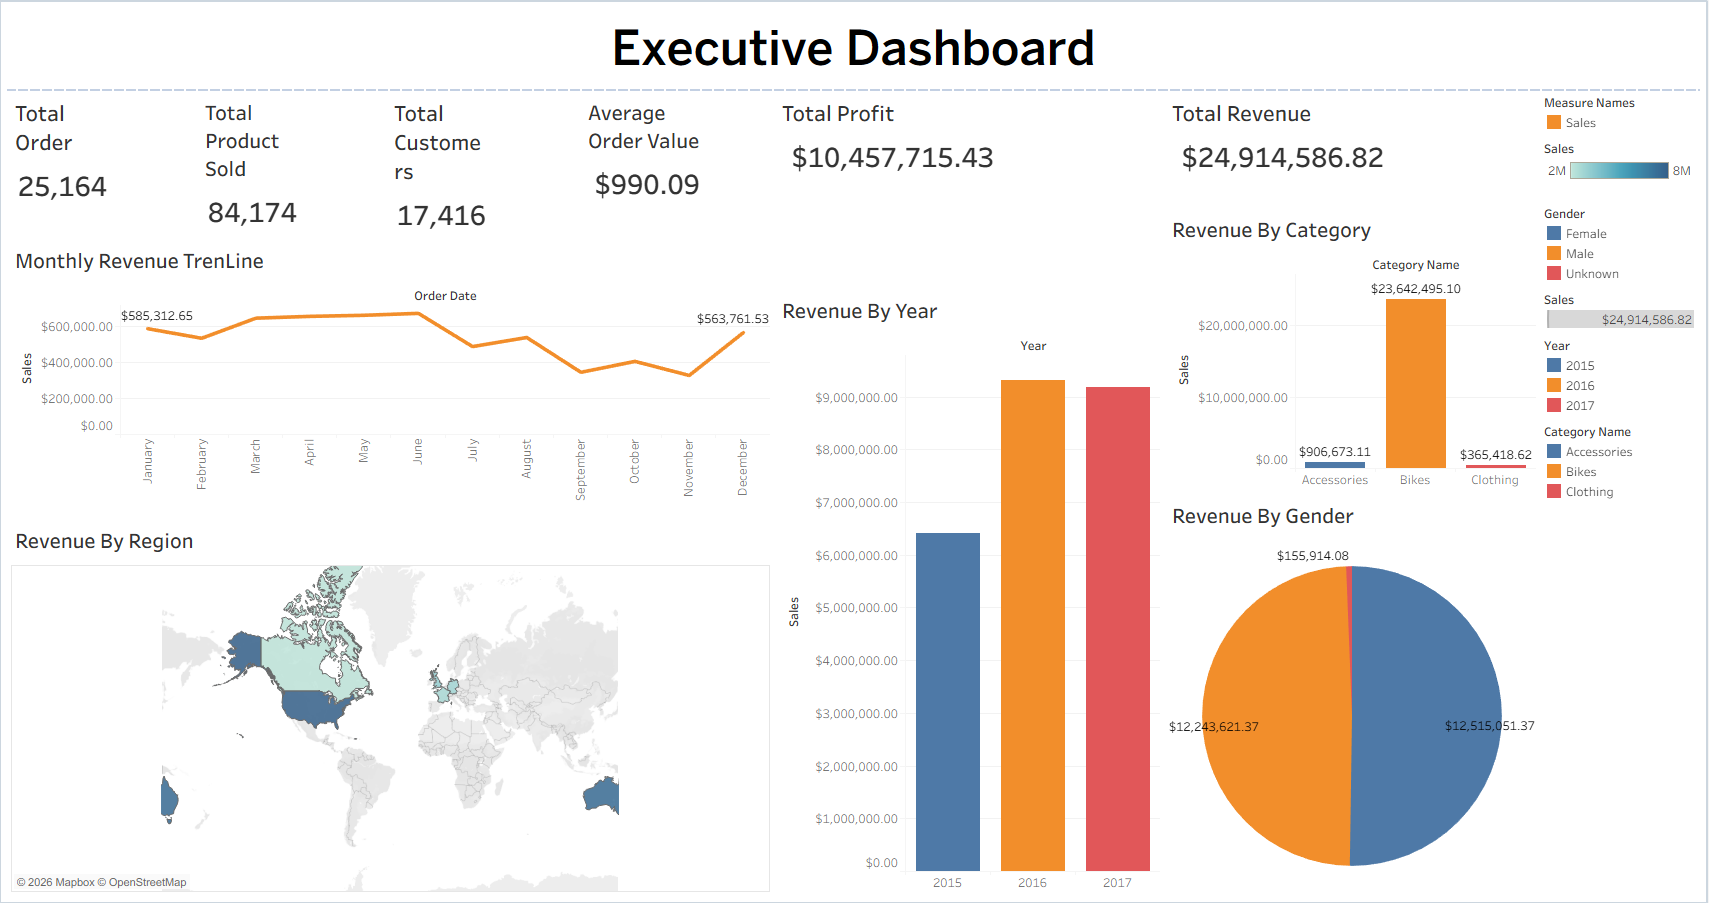

The page's visual inventory and layout, read from the dashboard file:
{"tool":"tableau","page":{"name":"Dashboard 1","canvas":[1000,1000],"units":"permille","ordinal":0},"visuals":[{"type":"text","box":[4.7,8.8,990.6,90.7]},{"type":"worksheet","title":"Sheet 3","mark":"Automatic","box":[4.7,99.6,111,163.7]},{"type":"worksheet","title":"Sheet 5","mark":"Automatic","box":[115.7,99.6,111,163.7]},{"type":"worksheet","title":"Sheet 4","mark":"Automatic","box":[226.7,99.6,113.3,163.7]},{"type":"worksheet","title":"Sheet 6","mark":"Automatic","box":[339.9,99.6,113.2,163.7]},{"type":"worksheet","title":"Sheet 2","mark":"Automatic","box":[453.2,99.6,228.5,218.9]},{"type":"worksheet","title":"Sheet 1","mark":"Automatic","box":[681.7,99.6,220,129.5]},{"type":"legend","title":"Sheet 7","param":"[federated.1aws9jr1iyr5lv11f7j1b1no7b1o].[:Measure Names]","box":[901.7,99.6,93.6,50.9]},{"type":"legend","title":"Sheet 9","param":"[federated.1aws9jr1iyr5lv11f7j1b1no7b1o].[sum:Sales:qk]","box":[901.7,150.5,93.6,71.9]},{"type":"legend","title":"Sheet 10","param":"[federated.1aws9jr1iyr5lv11f7j1b1no7b1o].[none:Gender:nk]","box":[901.7,222.3,93.6,95.1]},{"type":"worksheet","title":"Sheet 8","mark":"Automatic","rows":["Sales"],"cols":["CategoryName"],"box":[681.7,229.1,220,316.3]},{"type":"worksheet","title":"Sheet 7","mark":"Automatic","rows":["Sales"],"cols":["OrderDate"],"box":[4.7,263.2,448.5,309.2]},{"type":"legend","title":"Sheet 10","param":"[federated.1aws9jr1iyr5lv11f7j1b1no7b1o].[sum:Sales:qk]","box":[901.7,317.5,93.6,50.9]},{"type":"worksheet","title":"Sheet 11","mark":"Automatic","rows":["Sales"],"cols":["Year"],"box":[453.2,318.4,228.5,672.7]},{"type":"legend","title":"Sheet 11","param":"[federated.1aws9jr1iyr5lv11f7j1b1no7b1o].[none:Year:nk]","box":[901.7,368.4,93.6,95.1]},{"type":"legend","title":"Sheet 8","param":"[federated.1aws9jr1iyr5lv11f7j1b1no7b1o].[none:CategoryName:nk]","box":[901.7,463.5,93.6,95.1]},{"type":"worksheet","title":"Sheet 10","mark":"Pie","box":[681.7,545.4,220,445.8]},{"type":"worksheet","title":"Sheet 9","mark":"Automatic","box":[4.7,572.5,448.5,418.7]}]}

Visuals, with their boxes on the dashboard's canvas, which has no fixed pixel size, in thousandths of its width and height (x1, y1, x2, y2). These are canvas units, not pixel positions in the 1709x903 screenshot, which may show the page scaled, cropped or inside an application window:
text: <region>5, 9, 995, 100</region>
"Sheet 3" worksheet: <region>5, 100, 116, 263</region>
"Sheet 5" worksheet: <region>116, 100, 227, 263</region>
"Sheet 4" worksheet: <region>227, 100, 340, 263</region>
"Sheet 6" worksheet: <region>340, 100, 453, 263</region>
"Sheet 2" worksheet: <region>453, 100, 682, 318</region>
"Sheet 1" worksheet: <region>682, 100, 902, 229</region>
"Sheet 7" legend: <region>902, 100, 995, 150</region>
"Sheet 9" legend: <region>902, 150, 995, 222</region>
"Sheet 10" legend: <region>902, 222, 995, 317</region>
"Sheet 8" worksheet: <region>682, 229, 902, 545</region>
"Sheet 7" worksheet: <region>5, 263, 453, 572</region>
"Sheet 10" legend: <region>902, 318, 995, 368</region>
"Sheet 11" worksheet: <region>453, 318, 682, 991</region>
"Sheet 11" legend: <region>902, 368, 995, 464</region>
"Sheet 8" legend: <region>902, 464, 995, 559</region>
"Sheet 10" worksheet (Pie marks): <region>682, 545, 902, 991</region>
"Sheet 9" worksheet: <region>5, 572, 453, 991</region>
